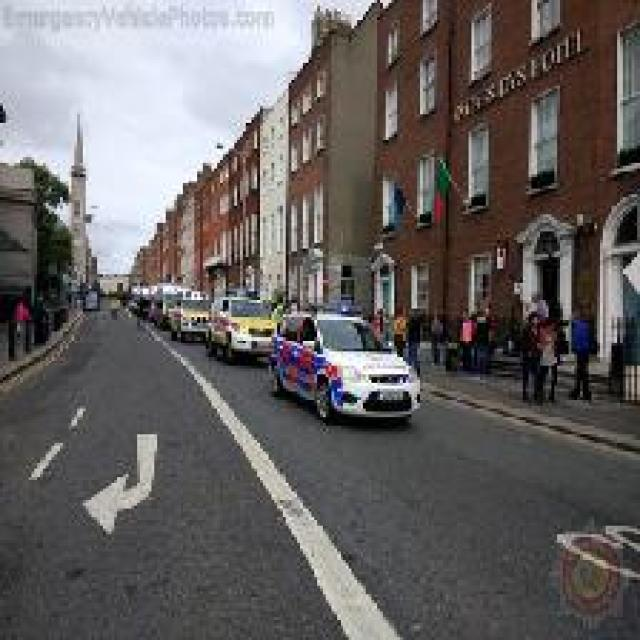Police-car: (263, 306, 423, 426)
